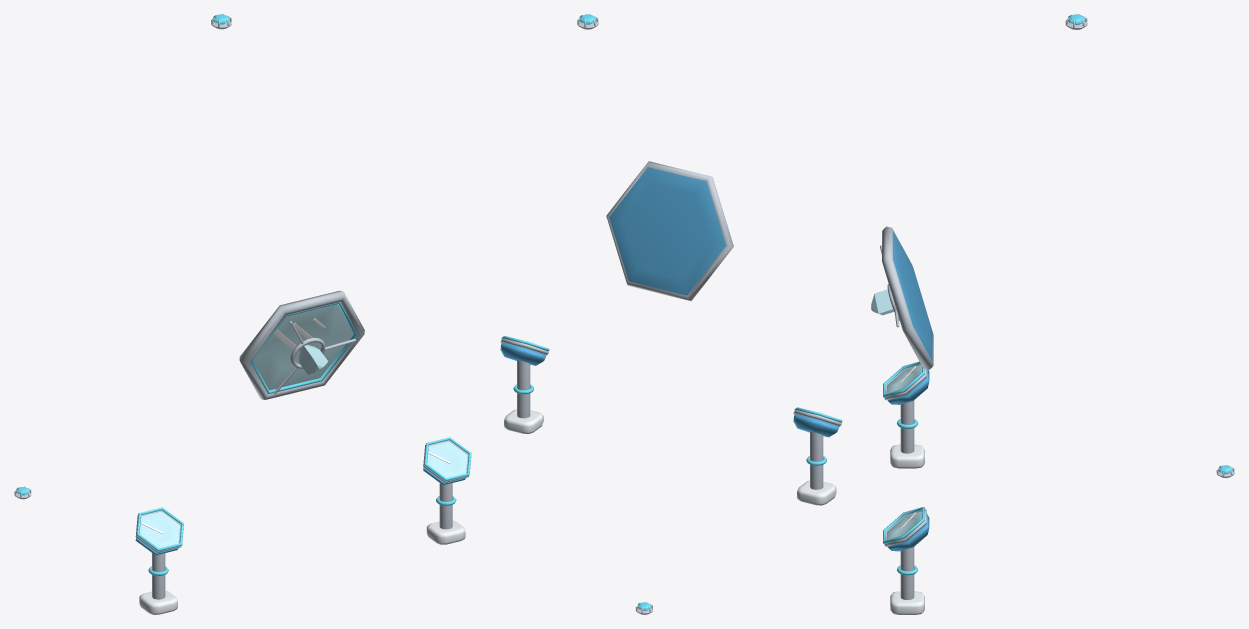
The model's file is SunMirrorTower_T3_Upgrades.fbx.
The picture shows the model from 3 angles, left to right: view 1: azimuth 30°, elevation 25°; view 2: azimuth 150°, elevation 25°; view 3: azimuth 270°, elevation 25°; orthographic projection. The views are drawn at different scales.
Visible parts, largest first — view 1: SunMirrorTowerT3U1PolishedMirror, SunMirrorTowerT3U3Tracker2, SunMirrorTowerT3U3Tracker1, SunMirrorTowerT3U1PolishedMirrorGlow, SunMirrorTowerT3U5RainbowLens, SunMirrorTowerT3U3Tracker2Glow, SunMirrorTowerT3U3Tracker1Glow, SunMirrorTowerT3U5RainbowLensGlow; view 2: SunMirrorTowerT3U1PolishedMirror, SunMirrorTowerT3U3Tracker1, SunMirrorTowerT3U3Tracker2; view 3: SunMirrorTowerT3U1PolishedMirror, SunMirrorTowerT3U3Tracker2, SunMirrorTowerT3U3Tracker1, SunMirrorTowerT3U3Tracker2Glow, SunMirrorTowerT3U3Tracker1Glow.
Boxes of the visible parts, box(x1,y1,x2,y2) form: SunMirrorTowerT3U1PolishedMirror: box(239, 290, 364, 399); SunMirrorTowerT3U3Tracker2: box(423, 440, 468, 544); SunMirrorTowerT3U3Tracker1: box(135, 510, 181, 614); SunMirrorTowerT3U1PolishedMirrorGlow: box(250, 302, 357, 394); SunMirrorTowerT3U5RainbowLens: box(273, 321, 356, 394); SunMirrorTowerT3U3Tracker2Glow: box(424, 437, 471, 505); SunMirrorTowerT3U3Tracker1Glow: box(136, 507, 183, 575); SunMirrorTowerT3U5RainbowLensGlow: box(298, 344, 328, 374); SunMirrorTowerT3U1PolishedMirror: box(606, 161, 733, 301); SunMirrorTowerT3U3Tracker1: box(793, 410, 841, 505); SunMirrorTowerT3U3Tracker2: box(500, 338, 548, 433); SunMirrorTowerT3U1PolishedMirror: box(882, 226, 933, 369); SunMirrorTowerT3U3Tracker2: box(884, 509, 929, 614); SunMirrorTowerT3U3Tracker1: box(884, 364, 929, 468); SunMirrorTowerT3U3Tracker2Glow: box(883, 506, 924, 575); SunMirrorTowerT3U3Tracker1Glow: box(883, 361, 924, 428).
Bounding box in the file's own units: 283 × 406 × 255.
